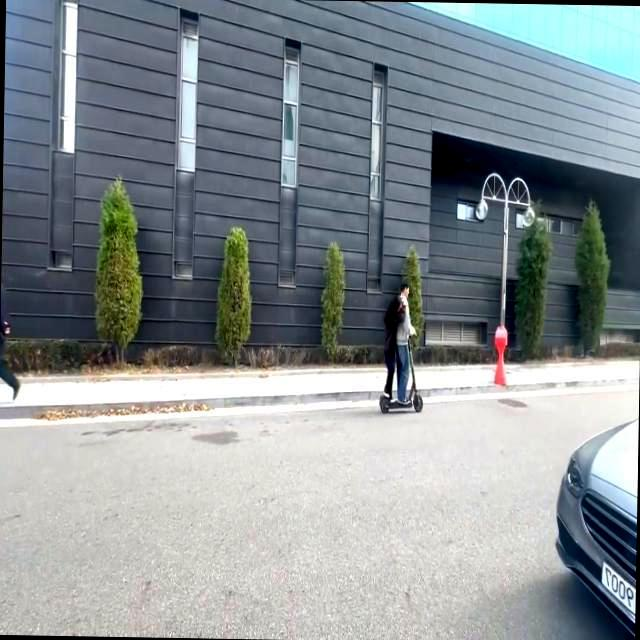bare_head: (389, 297, 402, 313), (401, 283, 410, 298)
human: (380, 296, 402, 399), (396, 282, 414, 404)
kickboard: (375, 394, 425, 414)
